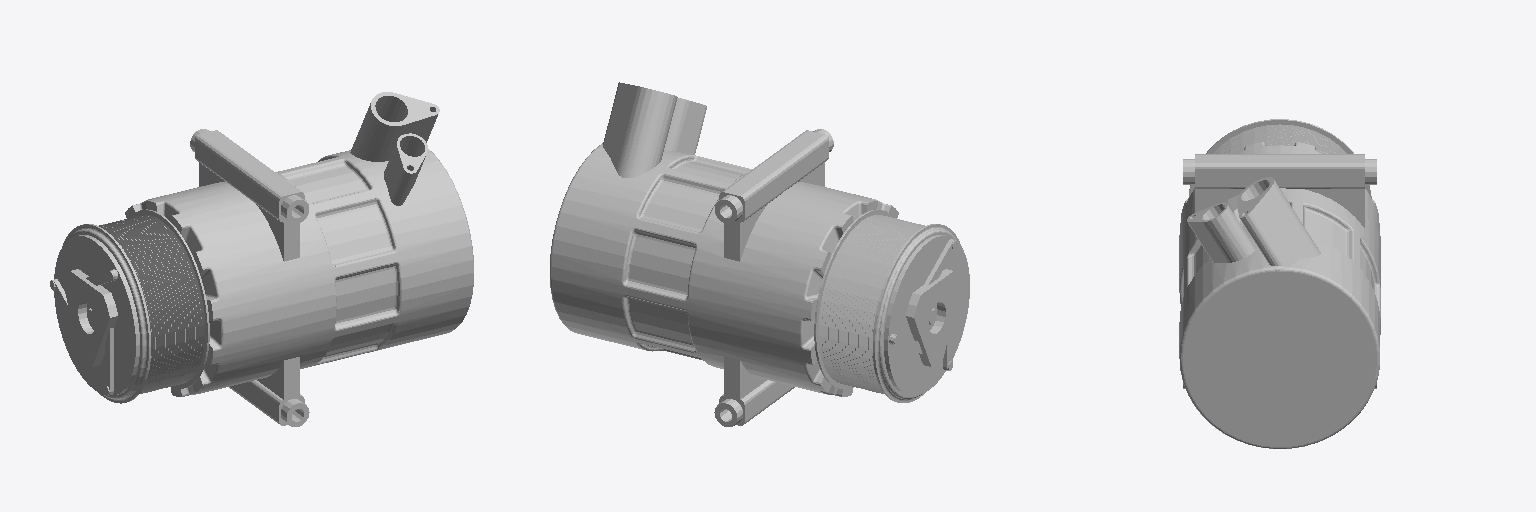
The model's file is Компрессор системы кондиционирования.obj.
3 views of the same model, side by side, from view 1: azimuth 30°, elevation 25°; view 2: azimuth 150°, elevation 25°; view 3: azimuth 270°, elevation 25° (orthographic).
Parts seen in each view (by area): view 1: Компрессор_системы_кондициониров; view 2: Компрессор_системы_кондициониров; view 3: Компрессор_системы_кондициониров.
Boxes of the visible parts, box(x1,y1,x2,y2) form: Компрессор_системы_кондициониров: box(50, 92, 473, 426); Компрессор_системы_кондициониров: box(550, 82, 969, 426); Компрессор_системы_кондициониров: box(1179, 119, 1380, 448).
Size of the model in its own units: 162 by 124 by 83.31.